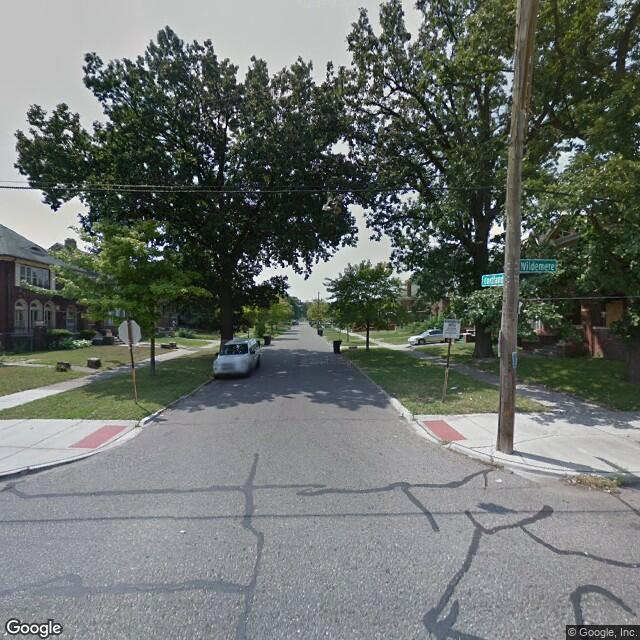litter: (570, 473, 619, 485), (495, 476, 504, 483), (158, 413, 168, 416)
